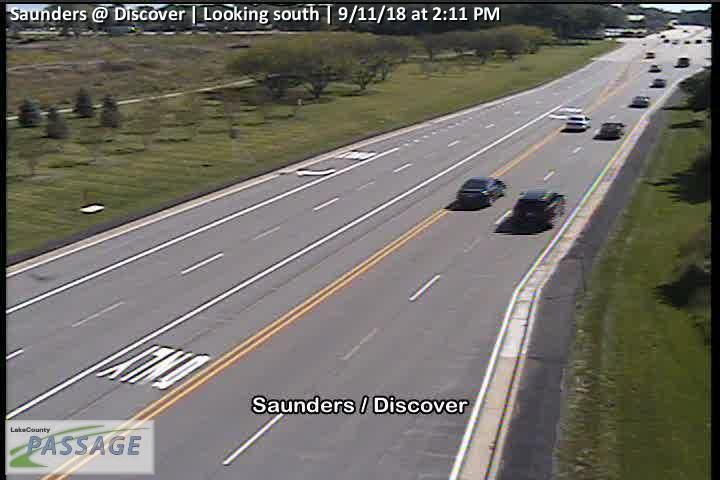SUV: (514, 190, 567, 229), (456, 176, 507, 208), (678, 56, 690, 67)
Sedan: (601, 122, 624, 139), (566, 116, 593, 130), (632, 95, 649, 107), (654, 78, 666, 86), (645, 51, 657, 59), (649, 65, 662, 72)
